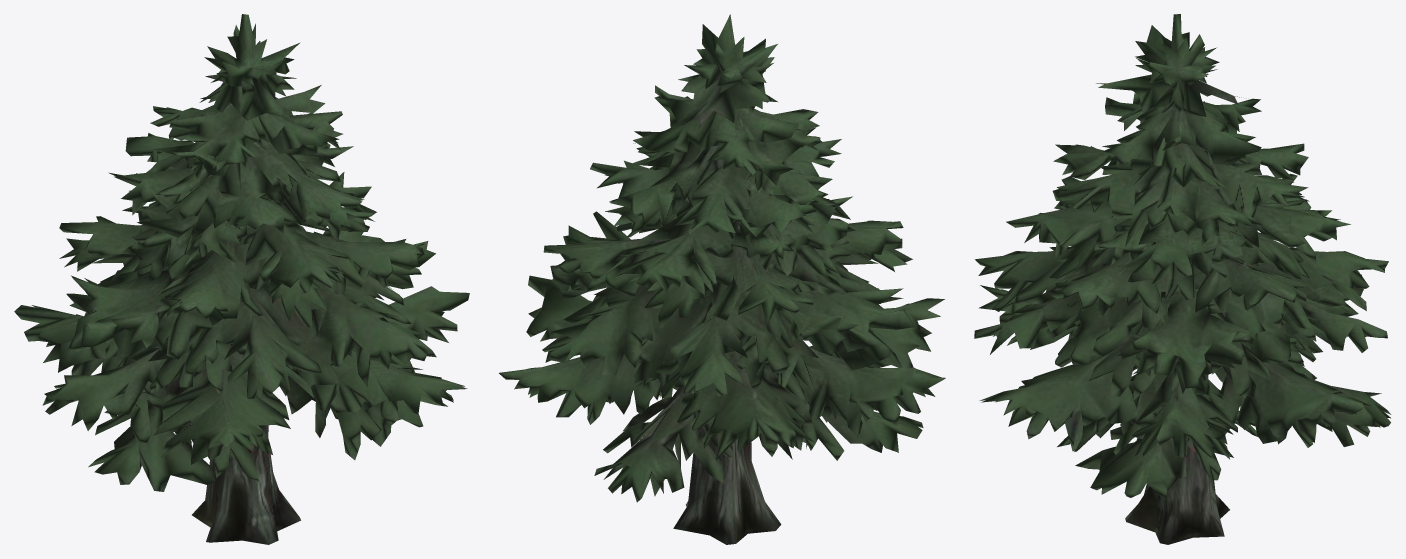
File: fir_tree.glb
3 renders of one model, left to right at view 1: azimuth 30°, elevation 25°; view 2: azimuth 150°, elevation 25°; view 3: azimuth 270°, elevation 25°, orthographic.
Parts seen in each view (by area): view 1: Mesh_0; view 2: Mesh_0; view 3: Mesh_0.
Part boxes in pixels (x1=…): Mesh_0: x1=14, y1=14, x2=469, y2=544; Mesh_0: x1=499, y1=14, x2=945, y2=544; Mesh_0: x1=974, y1=14, x2=1391, y2=544.
Size of the model in its own units: 1.62 by 1.89 by 1.4.
Materials: 1 (1 with a texture image).
